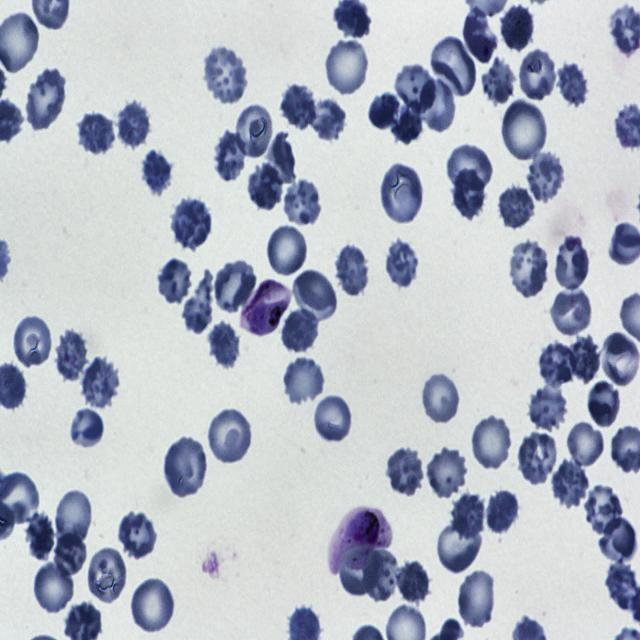difficult: (327, 507, 395, 576)
red blood cell: (500, 96, 549, 164), (430, 35, 479, 99), (162, 435, 209, 499), (129, 575, 177, 635), (324, 36, 370, 98), (201, 44, 247, 106), (23, 66, 66, 132), (380, 161, 424, 225), (207, 406, 253, 465), (507, 238, 551, 299), (470, 413, 515, 472), (446, 143, 494, 198), (292, 270, 340, 324), (86, 546, 129, 606), (212, 258, 258, 314), (32, 558, 76, 616), (457, 568, 498, 630), (266, 223, 310, 280), (233, 101, 276, 159), (54, 488, 94, 550), (12, 312, 54, 371), (436, 519, 480, 574), (515, 428, 558, 484), (423, 447, 468, 499), (461, 5, 498, 68), (338, 545, 383, 596), (282, 355, 326, 407), (550, 286, 594, 338), (524, 150, 566, 204), (394, 60, 436, 114), (421, 370, 462, 425), (181, 267, 214, 335), (80, 356, 122, 409), (554, 233, 592, 291), (601, 332, 640, 388), (171, 197, 212, 250), (383, 445, 424, 498), (516, 48, 556, 102), (419, 77, 455, 135), (118, 508, 158, 560), (282, 178, 324, 227), (75, 108, 116, 158), (538, 339, 580, 387), (334, 243, 370, 298), (362, 547, 398, 602), (450, 168, 488, 220), (211, 130, 248, 183), (314, 396, 353, 446), (54, 328, 91, 380), (282, 306, 321, 355), (585, 481, 624, 530), (305, 96, 347, 141), (496, 185, 536, 232), (565, 422, 604, 470), (450, 492, 488, 541), (526, 387, 568, 431), (552, 460, 590, 508), (115, 100, 152, 149), (385, 238, 421, 288), (246, 161, 282, 211), (500, 3, 535, 53), (482, 56, 516, 106), (54, 530, 90, 577), (207, 321, 240, 372), (570, 331, 601, 385), (394, 559, 430, 605), (389, 99, 425, 145), (486, 489, 521, 536), (586, 381, 620, 429), (267, 130, 297, 183), (140, 149, 173, 197), (556, 59, 588, 108), (157, 257, 190, 304), (69, 406, 104, 449), (25, 510, 55, 560), (282, 84, 314, 129), (367, 92, 400, 130)
trophozoite: (238, 276, 290, 336)
